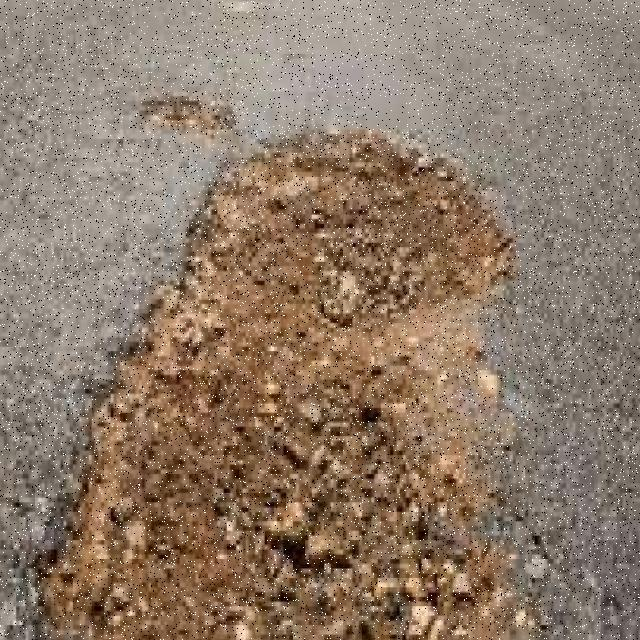pothole: (32, 129, 541, 640), (35, 125, 538, 640)
